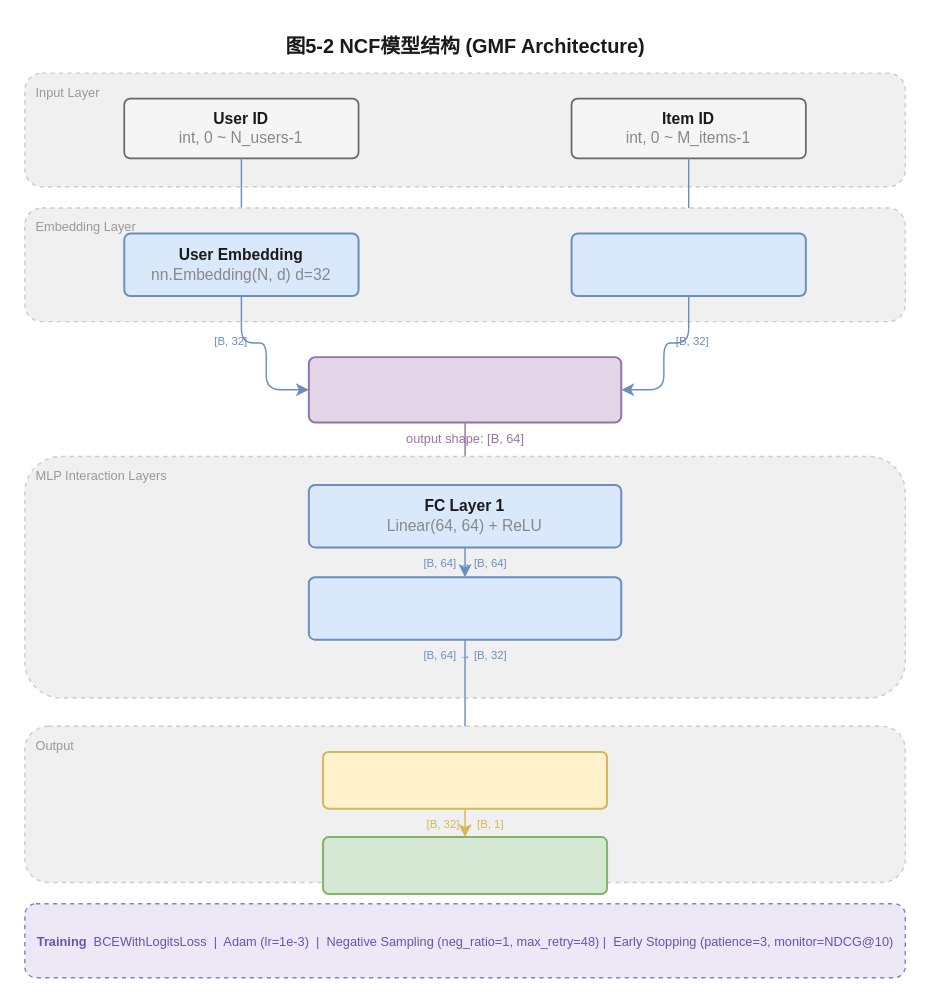
Some shapes in this 930 by 1003 pixel diagram are drawn without their labels. The shapes that lost their labels are listed below. From the top down, each one's centre as x and y in pixels, then its label:
At pixel 688 264: "Item Embedding nn.Embedding(M, d) d=32".
At pixel 464 389: "Concatenate torch.cat([u, i], dim=-1)".
At pixel 464 608: "FC Layer 2 Linear(64, 32) + ReLU".
At pixel 464 779: "FC Layer 3 Linear(32, 1)".
At pixel 464 864: "Sigmoid σ(x) = 1/(1+e⁻ˣ)".
